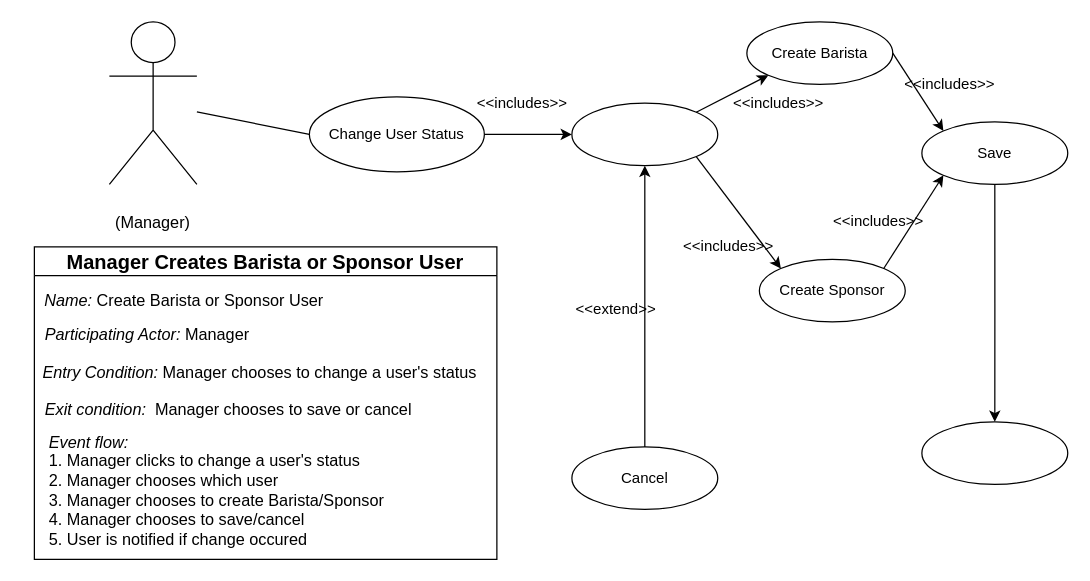
Some shapes in this 1090 by 581 pixel diagram are drawn without their labels. Each missing label, with the centre of its shape:
Actor: (152,102)
Choose User: (644,134)
Notify User: (994,452)
